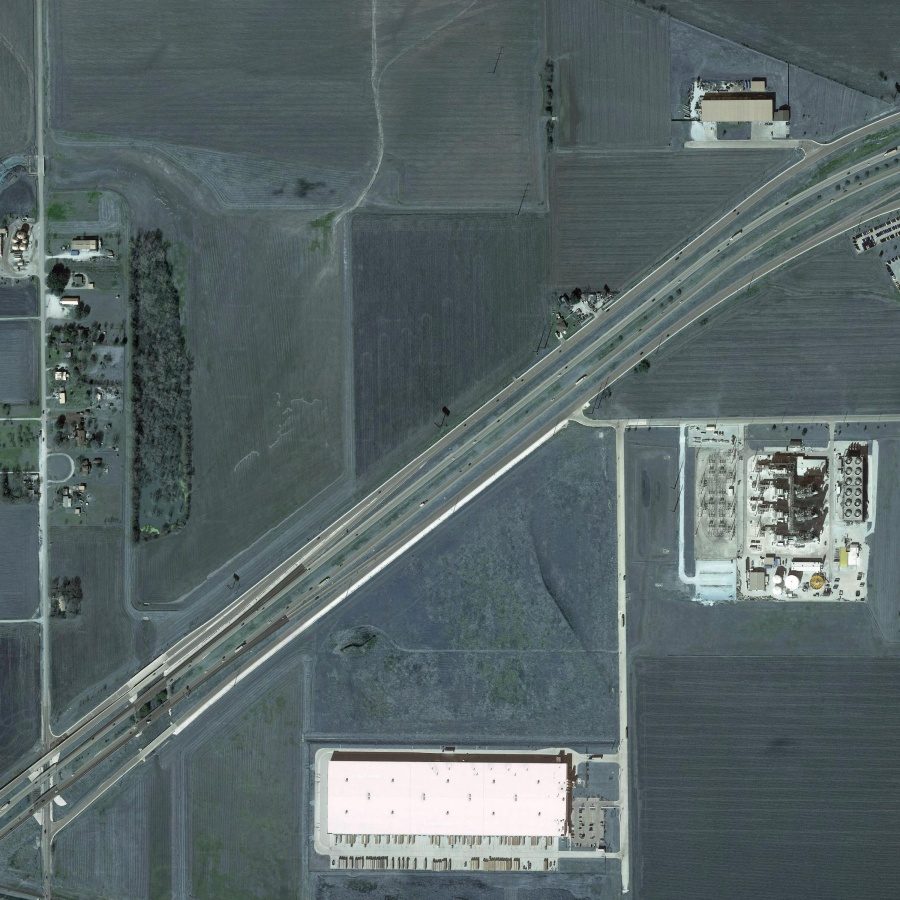PowerPlant: (681, 419, 875, 608)
